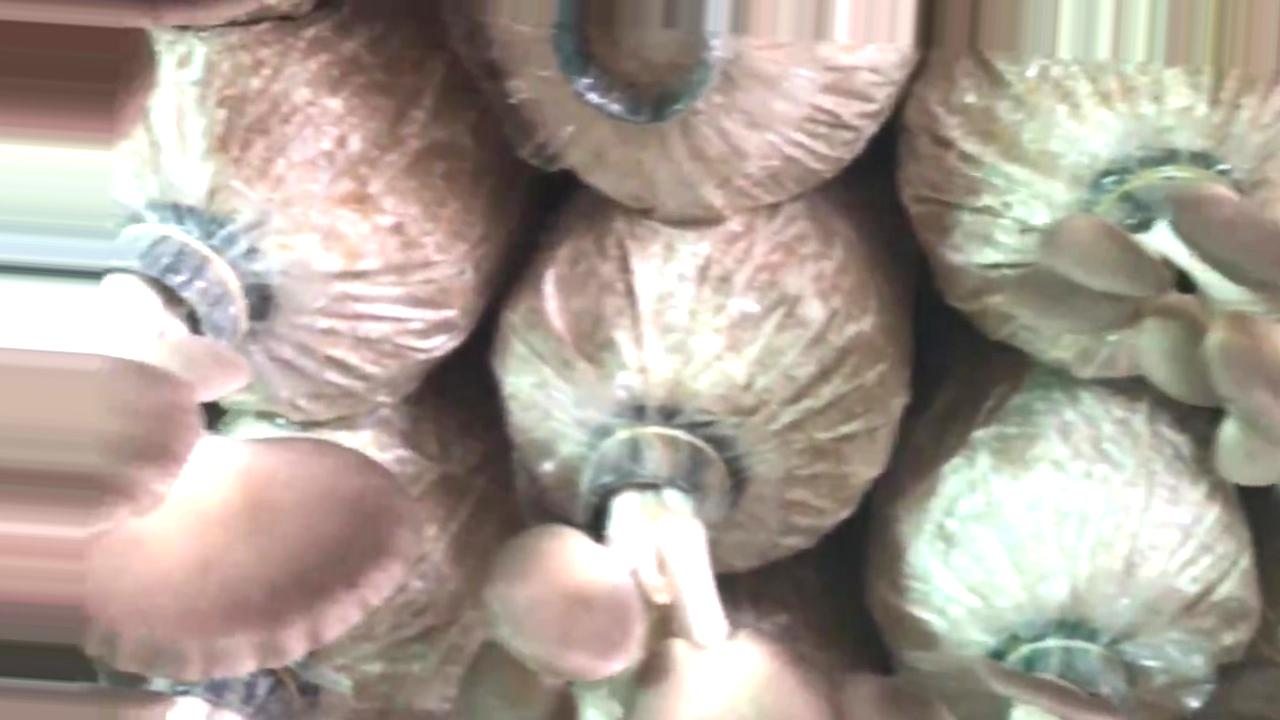nam: (1, 196, 425, 684), (478, 407, 834, 720), (1000, 134, 1280, 484)
